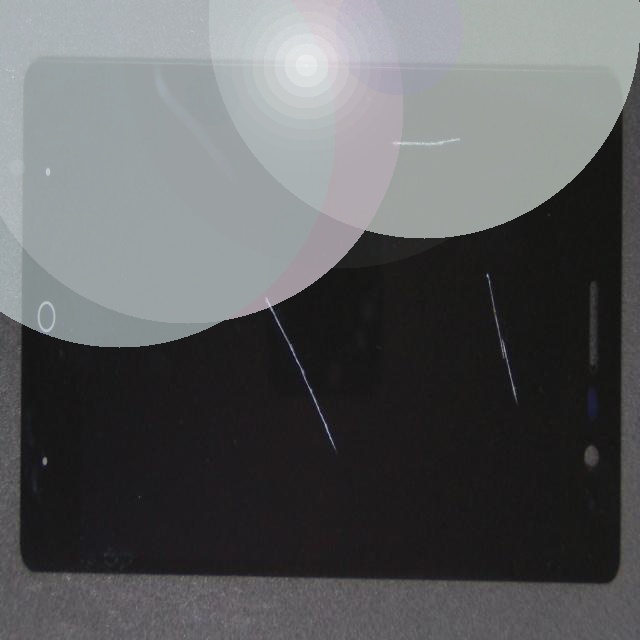scratch: (191, 297, 516, 640), (273, 95, 640, 383), (276, 66, 640, 195)
